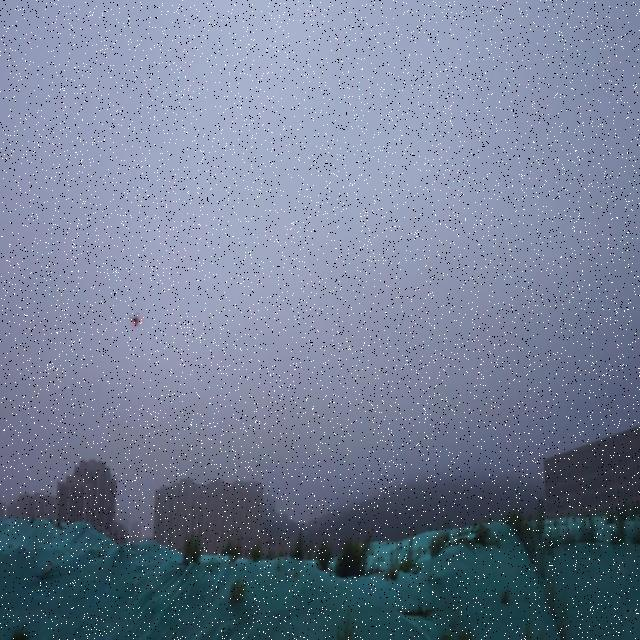UAV: (130, 313, 142, 328)
